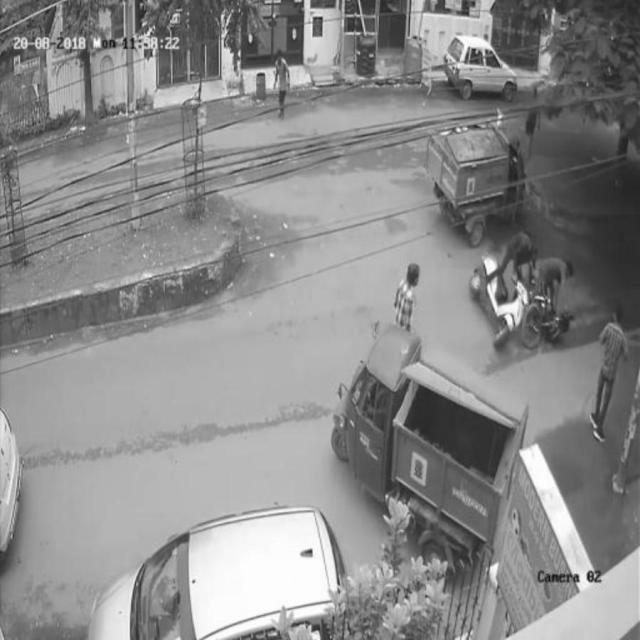accident: (469, 231, 581, 355)
person: (591, 297, 632, 454), (272, 51, 292, 122)
vehicle: (331, 324, 527, 580), (86, 505, 352, 636), (425, 111, 531, 245), (442, 29, 519, 110)
